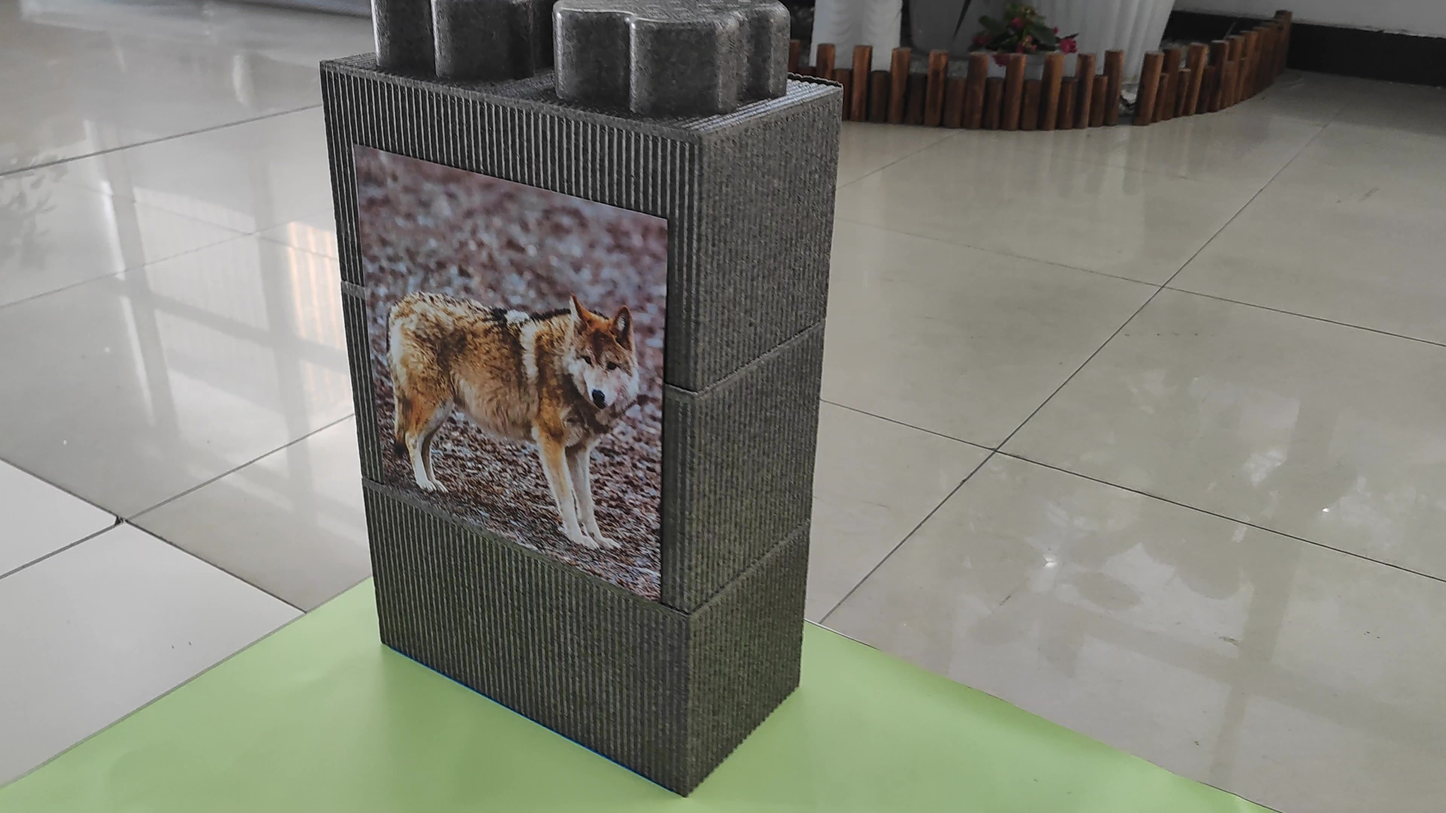wolf: (353, 228, 660, 529)
